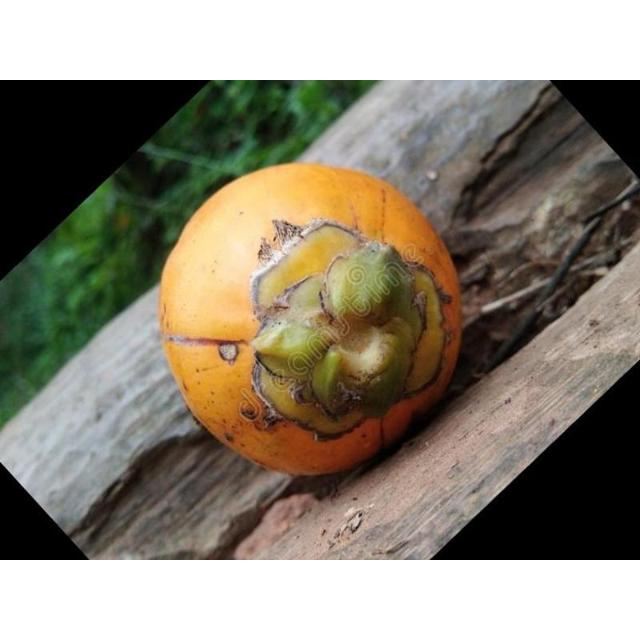good: (158, 163, 461, 474)
